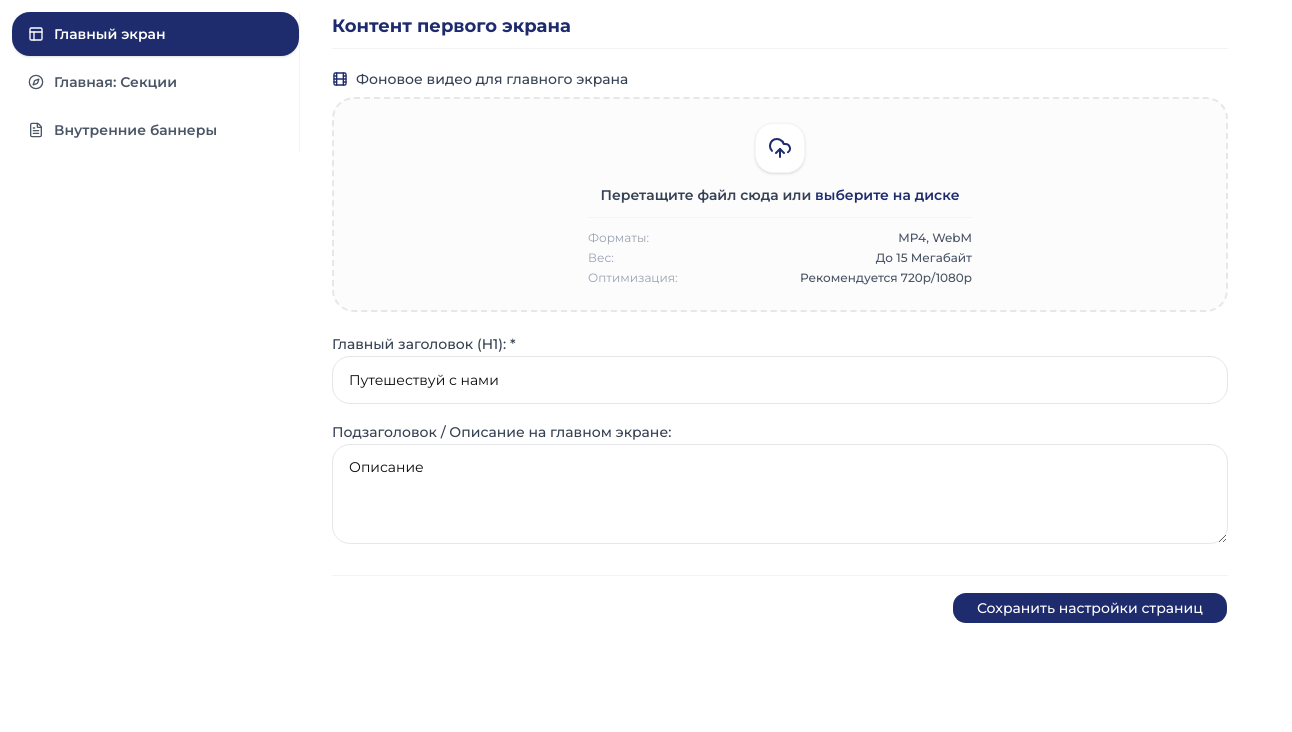
Test case: HomepageSettingsForm › переключает на вкладку секций
The image size is (1292, 732).
Click the button "Главная: Секции": (156, 82) [12,60,299,104]
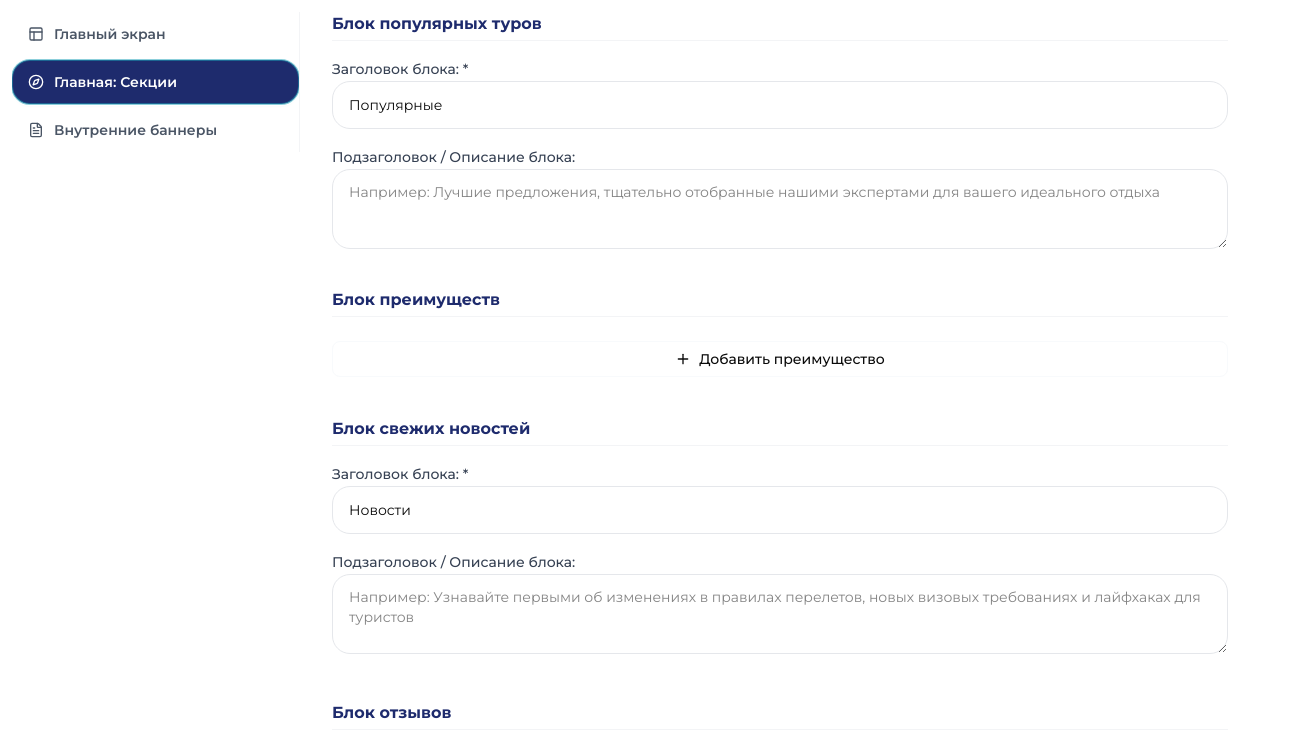
Result: the heading "Блок популярных туров" is shown at [332,12,1228,41]
Result: the heading "Блок отзывов" is shown at [332,701,1228,730]
